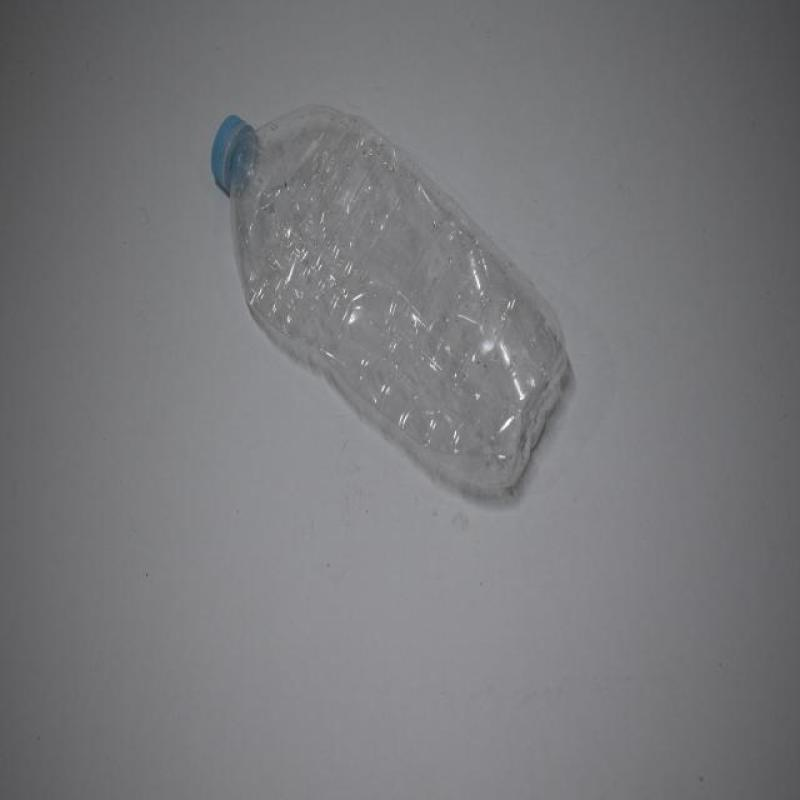botella: (210, 113, 570, 499)
